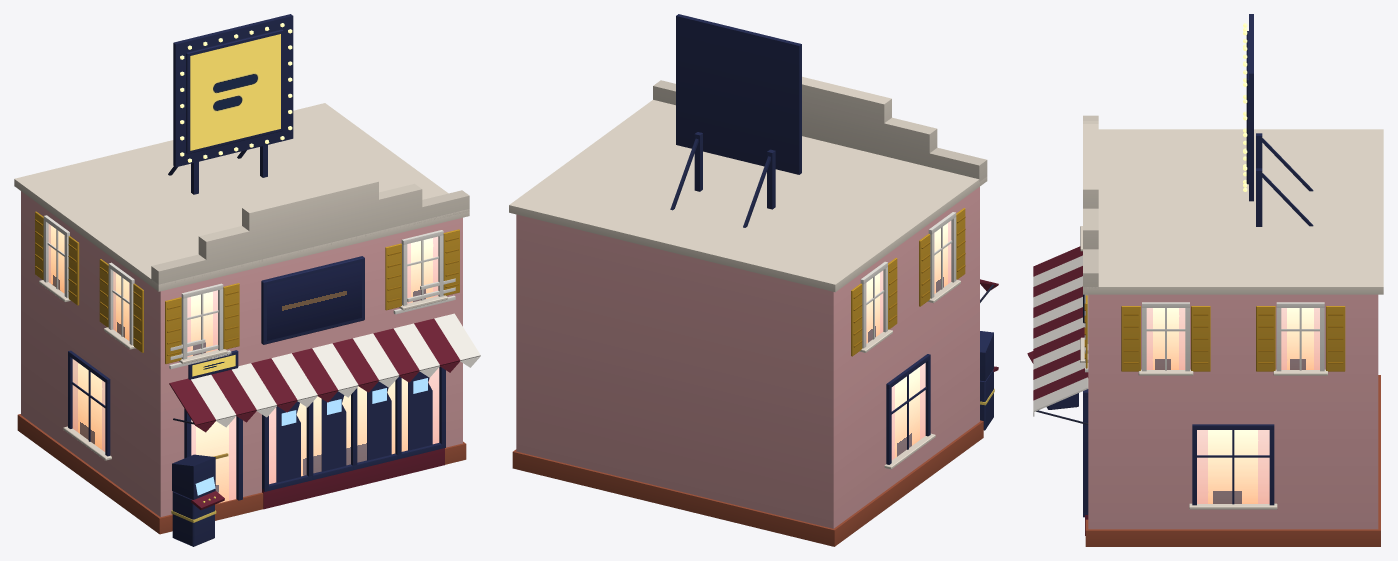
Rendered from lm_funlibs.glb.
3 views of the same model, side by side, from view 1: azimuth 30°, elevation 25°; view 2: azimuth 150°, elevation 25°; view 3: azimuth 270°, elevation 25° (orthographic). The views are drawn at different scales.
Parts seen in each view (by area): view 1: building, sign, windows_ground, screen, windows_upper, lights; view 2: building, windows_ground, windows_upper; view 3: building, windows_ground, windows_upper, lights.
Part boxes in pixels (left/top/right/bottom): building: left=14, top=14, right=480, bottom=546; sign: left=190, top=34, right=280, bottom=376; windows_ground: left=72, top=359, right=439, bottom=503; screen: left=267, top=262, right=361, bottom=340; windows_upper: left=48, top=224, right=438, bottom=357; lights: left=180, top=23, right=427, bottom=495; building: left=509, top=14, right=998, bottom=546; windows_ground: left=891, top=363, right=925, bottom=460; windows_upper: left=866, top=221, right=951, bottom=343; building: left=1027, top=14, right=1383, bottom=546; windows_ground: left=1197, top=430, right=1269, bottom=503; windows_upper: left=1146, top=308, right=1319, bottom=369; lights: left=1243, top=23, right=1247, bottom=191.
Bounding box in the file's own units: 7.3 × 9.06 × 6.88.
6 materials, 3 textured.
